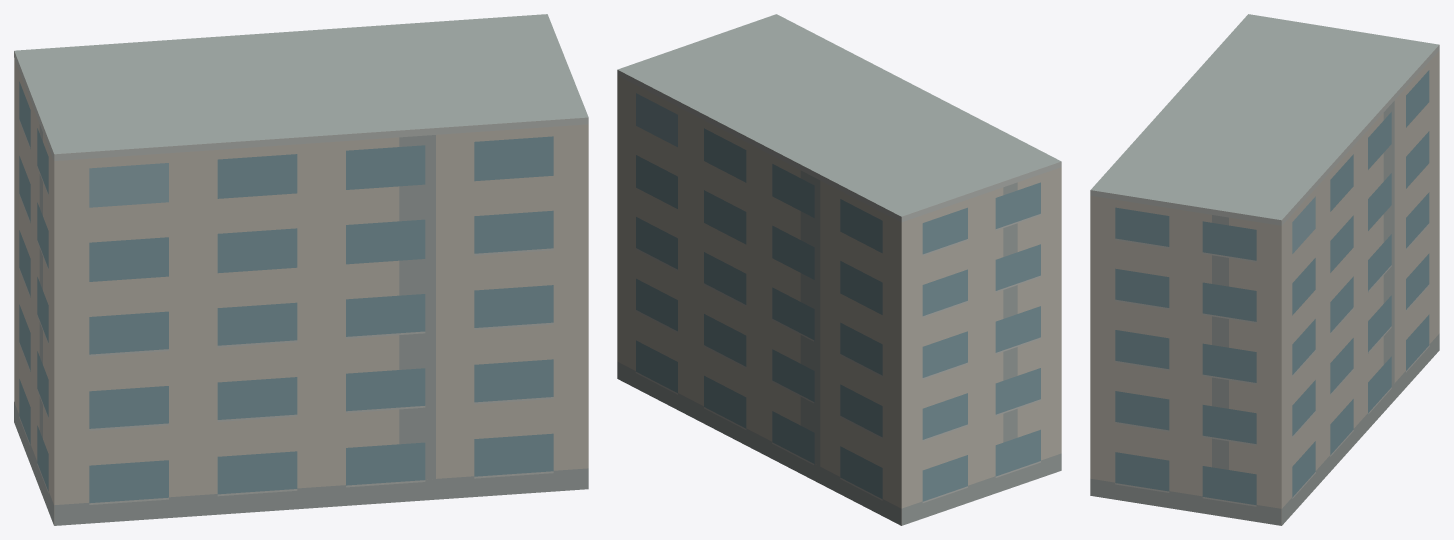
The model's file is survey-upis-32527779.glb.
The picture shows the model from 3 angles, left to right: view 1: azimuth 30°, elevation 25°; view 2: azimuth 150°, elevation 25°; view 3: azimuth 270°, elevation 25°; orthographic projection. The views are drawn at different scales.
Parts seen in each view (by area): view 1: survey-upis-32527779.tmp; view 2: survey-upis-32527779.tmp; view 3: survey-upis-32527779.tmp.
Boxes of the visible parts, x1,y1,x2,y2 form: survey-upis-32527779.tmp: (14, 14, 588, 525); survey-upis-32527779.tmp: (617, 14, 1061, 525); survey-upis-32527779.tmp: (1090, 14, 1439, 525).
Size of the model in its own units: 19.11 by 13.2 by 13.67.
